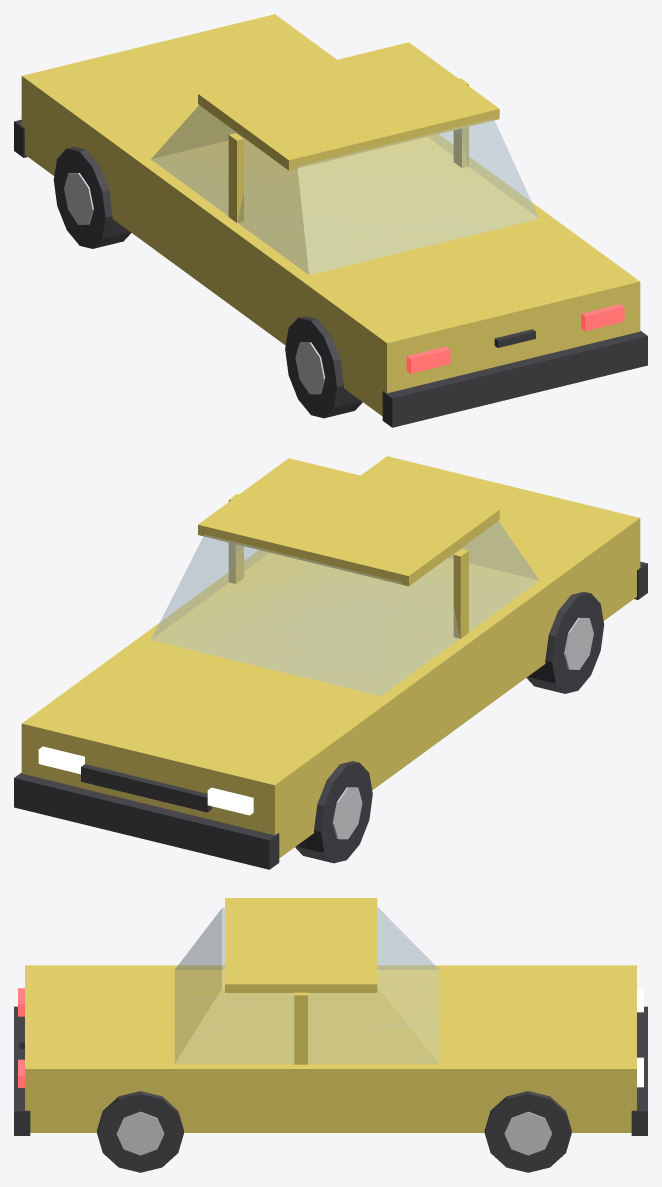
The model's file is car_sedan_yellow.glb.
3 renders of one model, top to bottom at view 1: azimuth 30°, elevation 25°; view 2: azimuth 150°, elevation 25°; view 3: azimuth 270°, elevation 25°, orthographic. The views are drawn at different scales.
Visible parts, largest first — view 1: body, wheel_fl, wheel_rl; view 2: body, wheel_rl, wheel_fl; view 3: body, wheel_fr, wheel_rr.
Boxes of the visible parts, x1,y1,x2,y2 form: body: [14, 14, 647, 427]; wheel_fl: [53, 146, 131, 248]; wheel_rl: [285, 316, 362, 418]; body: [14, 456, 647, 869]; wheel_rl: [526, 591, 604, 693]; wheel_fl: [295, 761, 372, 863]; body: [14, 898, 647, 1135]; wheel_fr: [484, 1091, 571, 1172]; wheel_rr: [97, 1091, 183, 1172].
Size of the model in its own units: 1.92 by 1.5 by 4.66.
